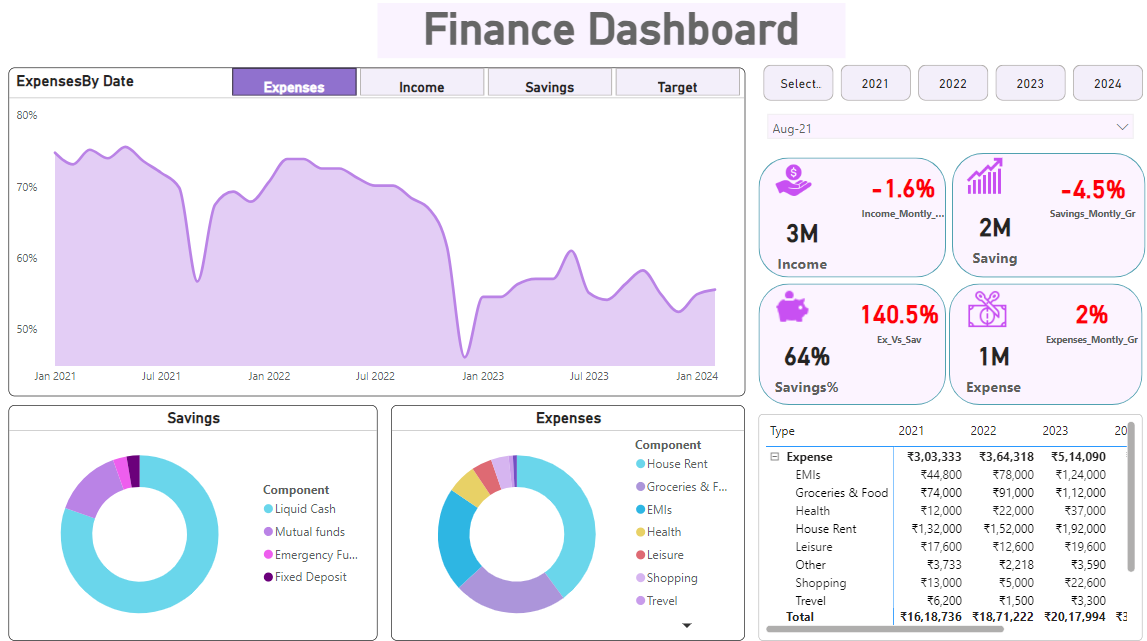

The dashboard page shown, as its layout file describes it:
{"tool":"powerbi","page":{"name":"Page 1","canvas":[1280,720],"ordinal":0},"visuals":[{"type":"areaChart","fields":{"Category":["FinData.date.Variation.Date Hierarchy.Year","FinData.date.Variation.Date Hierarchy.Quarter","FinData.date.Variation.Date Hierarchy.Month","FinData.date.Variation.Date Hierarchy.Day"],"Y":["FinData.Line_chart_measure"]},"box":[11.7,75,818.3,365],"z":0},{"type":"shape","box":[845,315,208.3,135],"z":1000},{"type":"shape","box":[1060,170,215,138.3],"z":2000},{"type":"shape","box":[845,175,208.3,133.3],"z":3000},{"type":"shape","box":[1056.7,315,215,135],"z":4000},{"type":"advancedSlicerVisual","fields":{"Values":["LINE_SELECTION.Type"]},"box":[255,70,575,41.7],"z":5000},{"type":"card","fields":{"Values":["FinData.InCOME"]},"box":[833.3,233.3,120,70],"z":6000},{"type":"card","fields":{"Values":["FinData.Expense"]},"box":[1060,360,91.7,90],"z":7000},{"type":"card","fields":{"Values":["FinData.Savings%"]},"box":[830,360,136.7,90],"z":8000},{"type":"advancedSlicerVisual","fields":{"Values":["FinData.Year"]},"box":[845,66.7,435,50],"z":9000},{"type":"donutChart","title":"Savings ","fields":{"Category":["FinData.Component"],"Y":["FinData.Saving"]},"box":[11.7,450,410,261.7],"z":10000},{"type":"donutChart","title":"Expenses","fields":{"Category":["FinData.Component"],"Y":["FinData.Expense"]},"box":[436.7,450,393.3,261.7],"z":11000},{"type":"pivotTable","fields":{"Values":["FinData.Total_Value"],"Rows":["FinData.Type","FinData.Component"],"Columns":["FinData.Year"]},"box":[845,460,426.7,251.7],"z":12000},{"type":"card","fields":{"Values":["FinData.Saving"]},"box":[1053.3,215,108.3,93.3],"z":13000},{"type":"actionButton","title":"Finance Dashboard","box":[421.7,3.3,520,63.3],"z":14000},{"type":"slicer","fields":{"Values":["Selected_date.Month-Yr"]},"box":[845,116.7,426.7,50],"z":15000},{"type":"card","fields":{"Values":["FinData.Income_Montly_Gr"]},"box":[953.3,173.3,103.3,81.7],"z":16000},{"type":"card","fields":{"Values":["FinData.Expenses_Montly_Gr"]},"box":[1158.3,315,113.3,78.3],"z":17000},{"type":"card","fields":{"Values":["FinData.Savings_Montly_Gr"]},"box":[1151.7,175,128.3,80],"z":18000},{"type":"card","fields":{"Values":["FinData.Ex_Vs_Sav"]},"box":[941.7,315,118.3,78.3],"z":19000},{"type":"image","box":[1053.3,170,85,50],"z":20000},{"type":"image","box":[1060,315,78.3,58.3],"z":21000},{"type":"image","box":[850,175,68.3,50],"z":22000},{"type":"image","box":[846.7,315,71.7,51.7],"z":23000}]}

Visuals, with their boxes in screenshot pixels (x1, y1, x2, y2), scaled from the page's 1280x720 canvas onto the 1147x641 screenshot:
areaChart - FinData.date.Variation.Date Hierarchy.Year x FinData.date.Variation.Date Hierarchy.Quarter: <box>10,67,744,392</box>
shape: <box>757,280,944,401</box>
shape: <box>950,151,1143,274</box>
shape: <box>757,156,944,274</box>
shape: <box>947,280,1140,401</box>
advancedSlicerVisual - LINE_SELECTION.Type: <box>229,62,744,99</box>
card - FinData.InCOME: <box>747,208,854,270</box>
card - FinData.Expense: <box>950,320,1032,401</box>
card - FinData.Savings%: <box>744,320,866,401</box>
advancedSlicerVisual - FinData.Year: <box>757,59,1146,104</box>
"Savings " donutChart: <box>10,401,378,634</box>
"Expenses" donutChart: <box>391,401,744,634</box>
pivotTable - FinData.Total_Value x FinData.Type: <box>757,410,1140,634</box>
card - FinData.Saving: <box>944,191,1041,274</box>
"Finance Dashboard" actionButton: <box>378,3,844,59</box>
slicer - Selected_date.Month-Yr: <box>757,104,1140,148</box>
card - FinData.Income_Montly_Gr: <box>854,154,947,227</box>
card - FinData.Expenses_Montly_Gr: <box>1038,280,1139,350</box>
card - FinData.Savings_Montly_Gr: <box>1032,156,1146,227</box>
card - FinData.Ex_Vs_Sav: <box>844,280,950,350</box>
image: <box>944,151,1020,196</box>
image: <box>950,280,1020,332</box>
image: <box>762,156,823,200</box>
image: <box>759,280,823,326</box>
